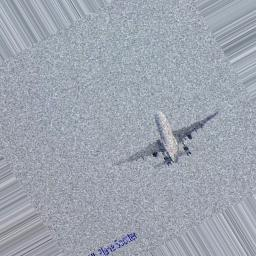Airplane: (118, 108, 218, 169)
